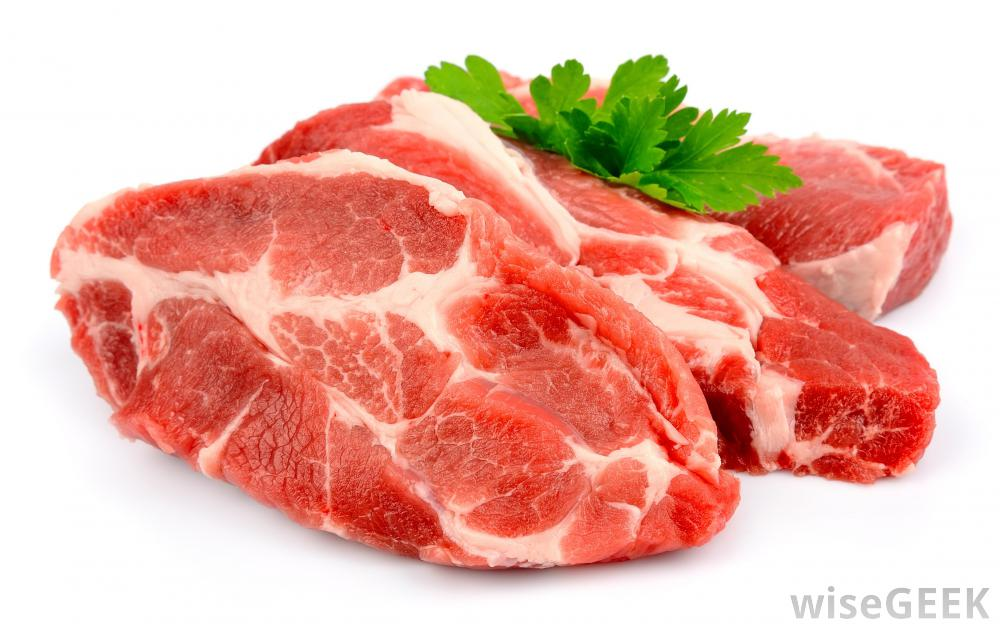ground_beef: (102, 64, 956, 546)
